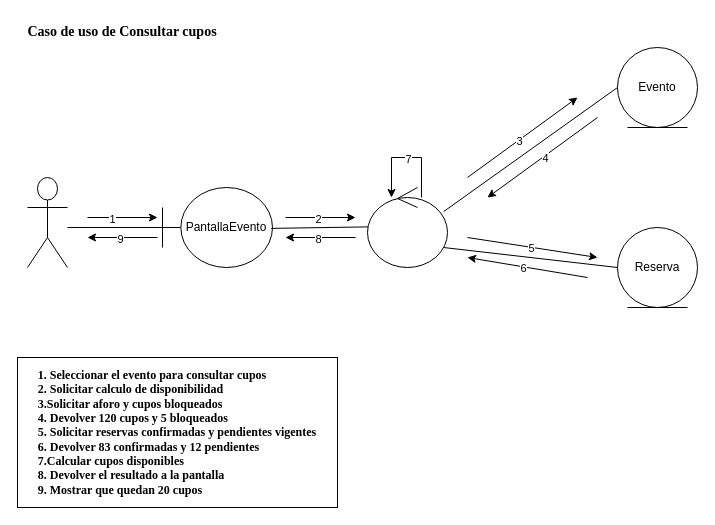
Some shapes in this 715 by 525 pixel diagram are drawn without their labels. Here are the shapes that lost their labels. From the top down, the centre of each, then its label:
the point at 47,222: Estudiante
the point at 407,227: CalculoDisp Cupos
